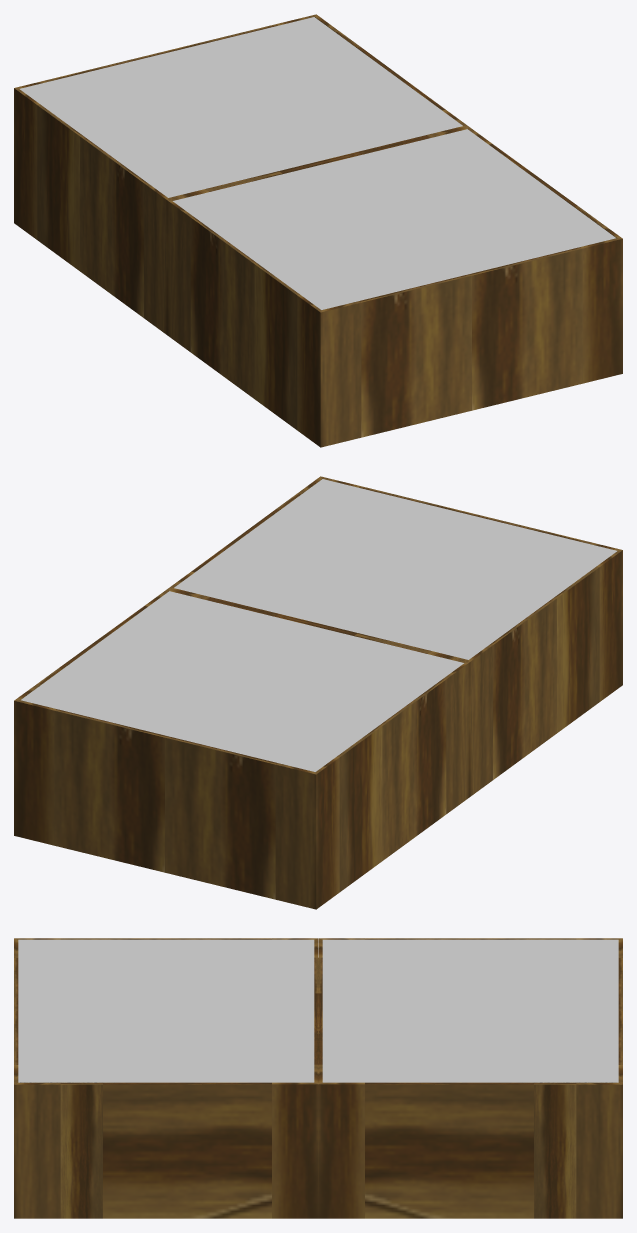
The model's file is LevelDesignSetupRommTest (3).fbx.
3 renders of one model, top to bottom at view 1: azimuth 30°, elevation 25°; view 2: azimuth 150°, elevation 25°; view 3: azimuth 270°, elevation 25°, orthographic.
Visible parts, largest first — view 1: floor_regular_4x2_000, floor_regular_4x2_001; view 2: floor_regular_4x2_001, floor_regular_4x2_000; view 3: floor_regular_4x2_000, floor_regular_4x2_001.
Part boxes in pixels (box(x1,y1,x2,y2)): floor_regular_4x2_000: box(167, 126, 622, 447); floor_regular_4x2_001: box(14, 14, 468, 334); floor_regular_4x2_001: box(14, 589, 469, 909); floor_regular_4x2_000: box(168, 476, 622, 796); floor_regular_4x2_000: box(14, 938, 318, 1218); floor_regular_4x2_001: box(318, 938, 622, 1218).
Bounding box in the file's own units: 8.2 × 3.5 × 14.4.
